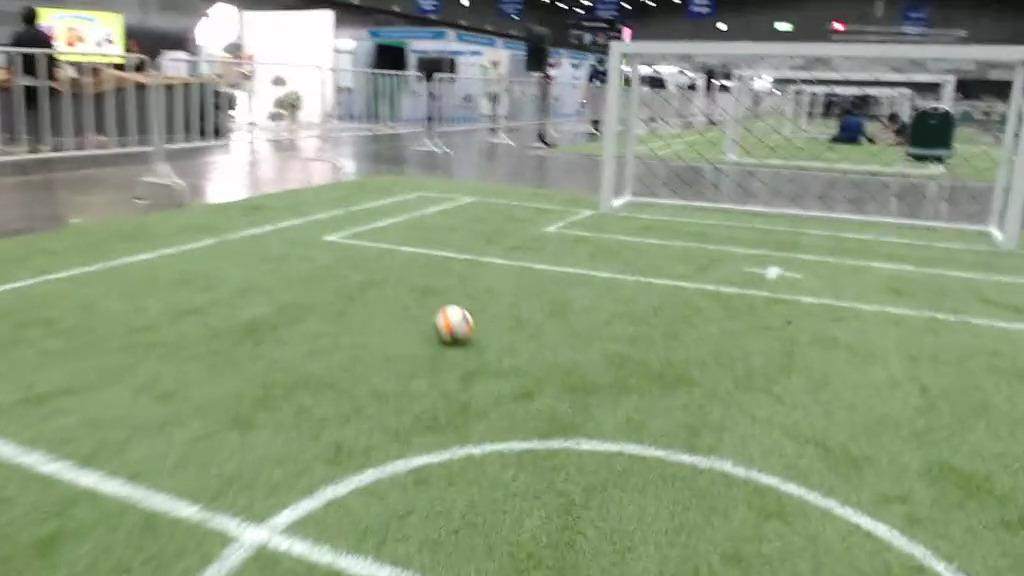ball: (431, 304, 477, 344)
